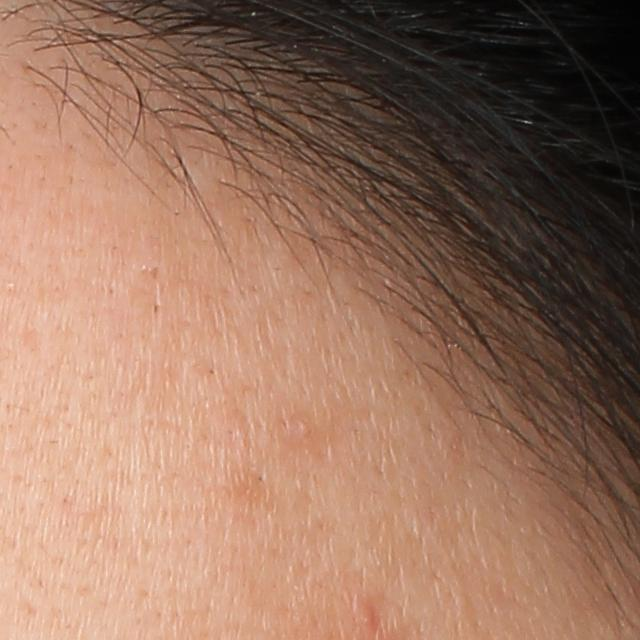papule: (350, 596, 382, 633)
